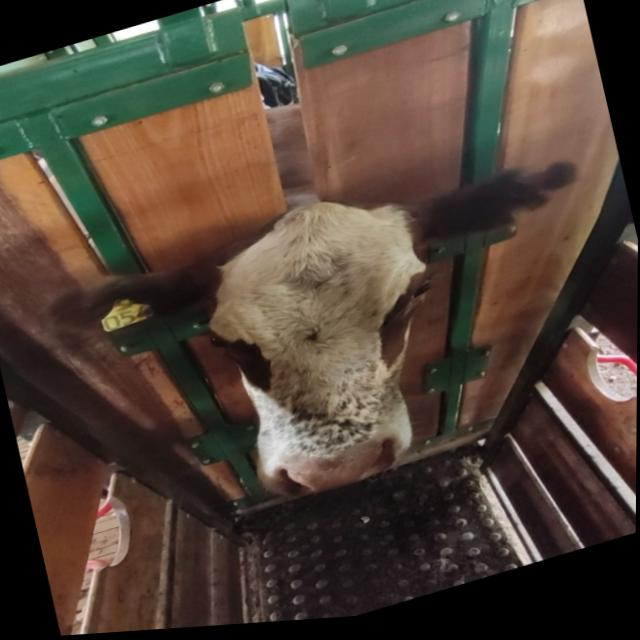cowFace: (179, 176, 471, 523)
